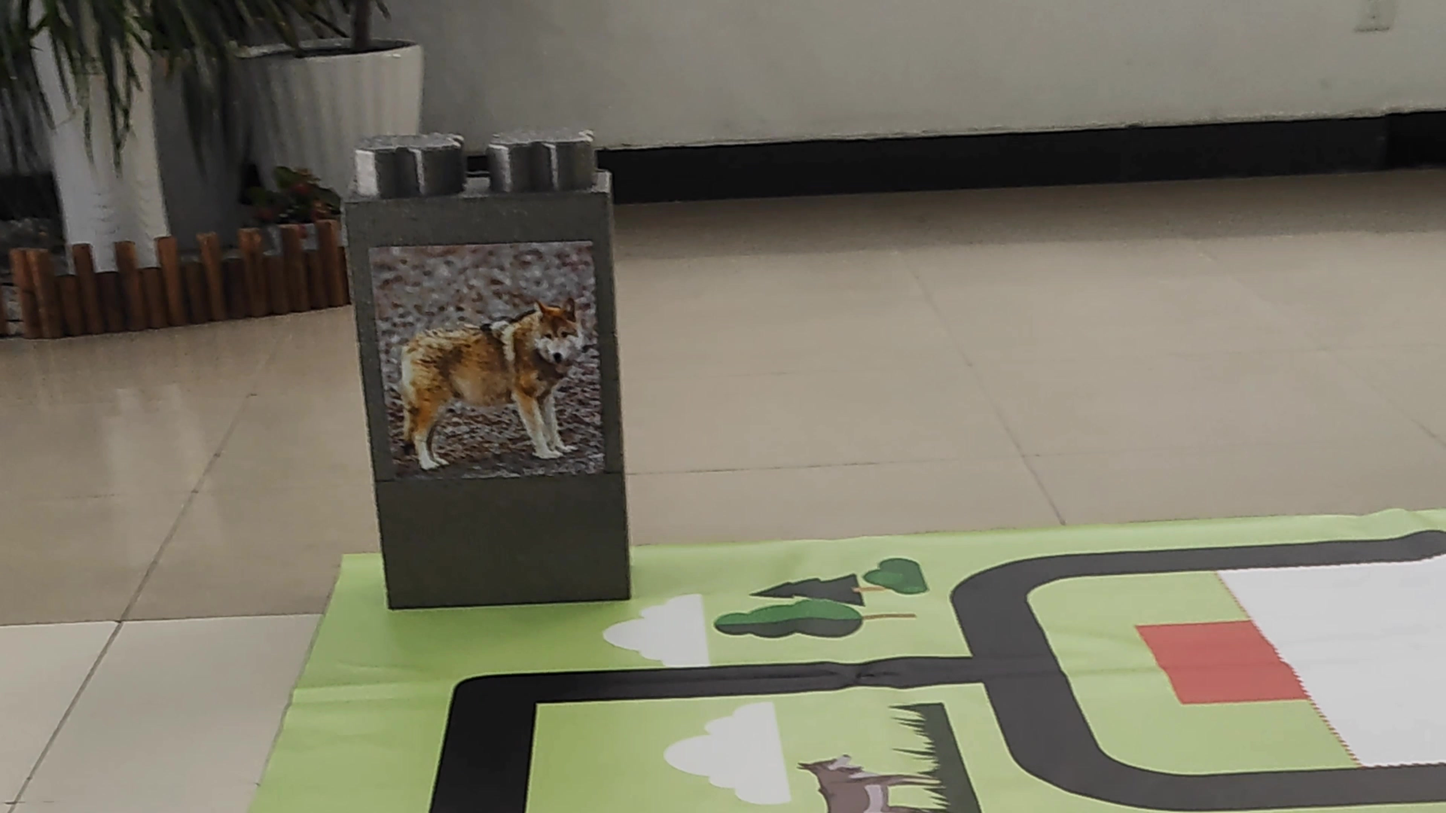wolf: (373, 244, 607, 473)
